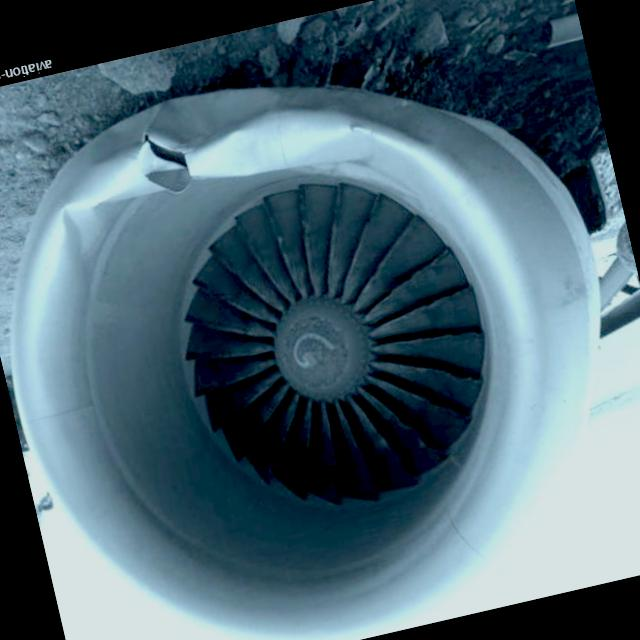crack: (139, 122, 197, 186)
dent: (198, 97, 370, 193), (46, 194, 118, 270)
